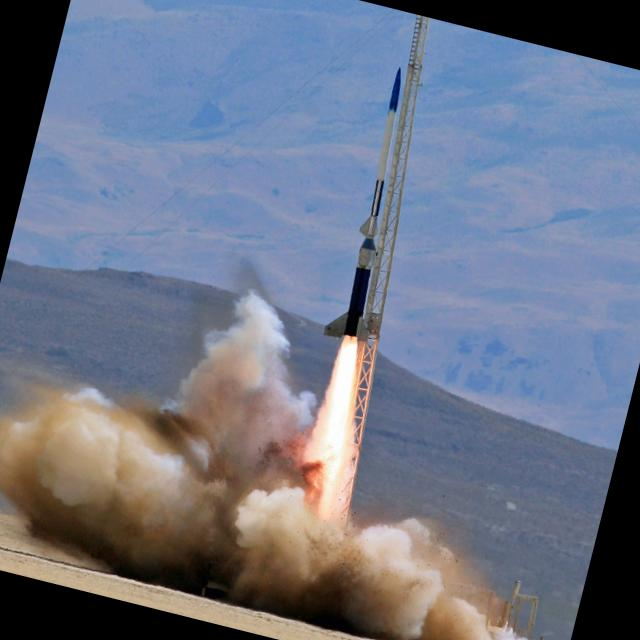rocket: (297, 54, 440, 427)
